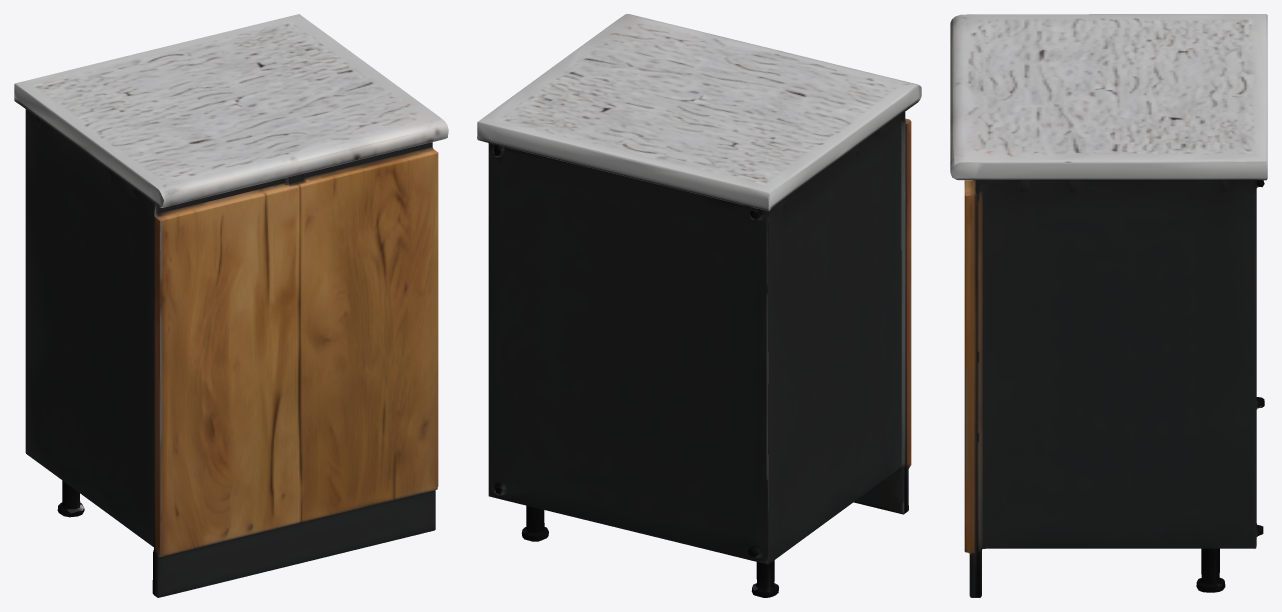
Rendered from PlanCuisine2_3D_textured.glb.
3 views of the same model, side by side, from view 1: azimuth 30°, elevation 25°; view 2: azimuth 150°, elevation 25°; view 3: azimuth 270°, elevation 25° (orthographic). The views are drawn at different scales.
Visible parts, largest first — view 1: temp_mesh.ply; view 2: temp_mesh.ply; view 3: temp_mesh.ply.
Boxes of the visible parts, left/top/right/bottom form: temp_mesh.ply: left=14, top=14, right=448, bottom=597; temp_mesh.ply: left=477, top=14, right=921, bottom=597; temp_mesh.ply: left=950, top=14, right=1267, bottom=597.
Size of the model in its own units: 1.41 by 1.97 by 1.28.
Materials: 1 (1 with a texture image).
